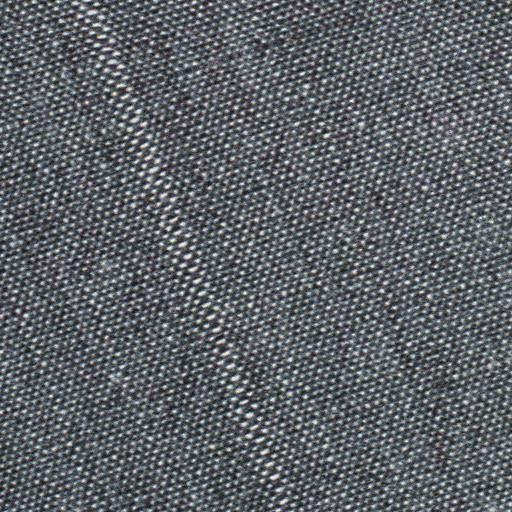slub: (70, 0, 311, 510)
